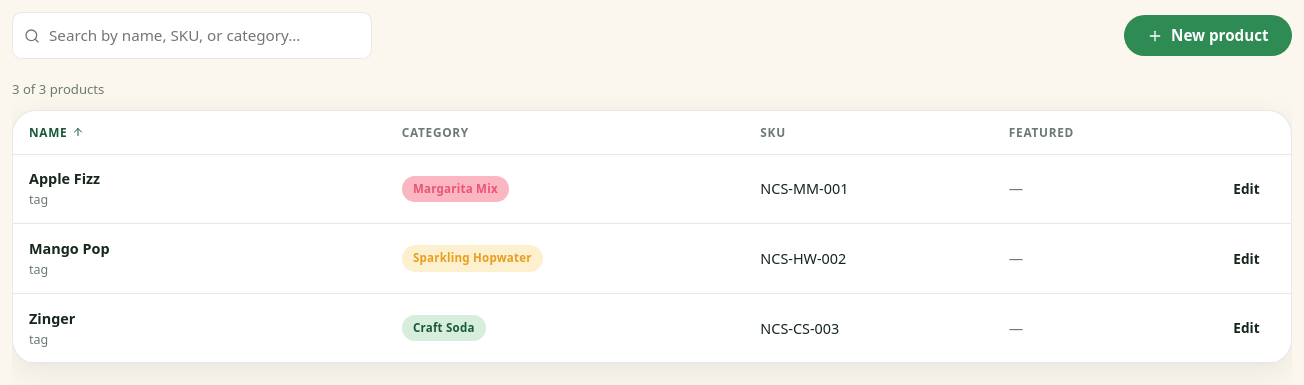
ManageProducts › shows an empty state when nothing matches
Step 1. Type "zzzz" into the search field named "search products" → coordinates (192, 36), box [12, 12, 372, 59]
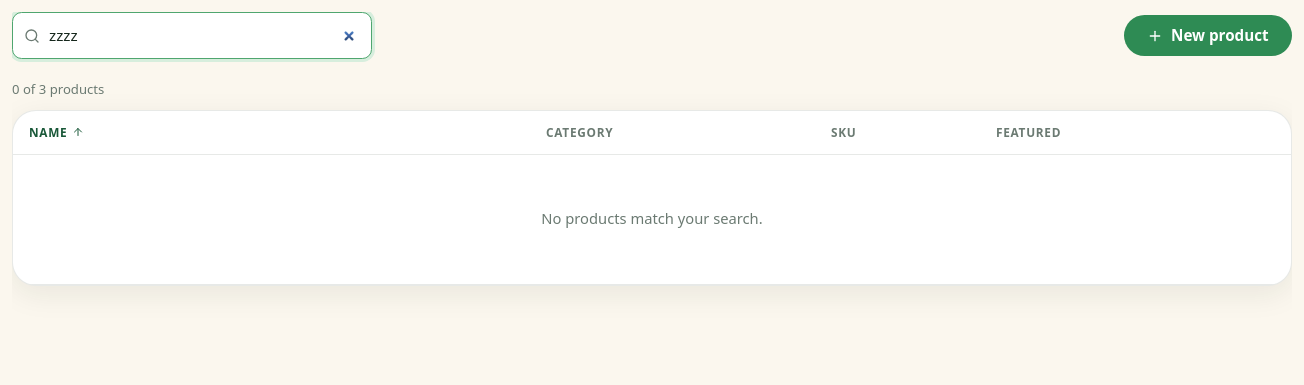
Check: the text "No products match your search." is shown, box [541, 208, 763, 228]
